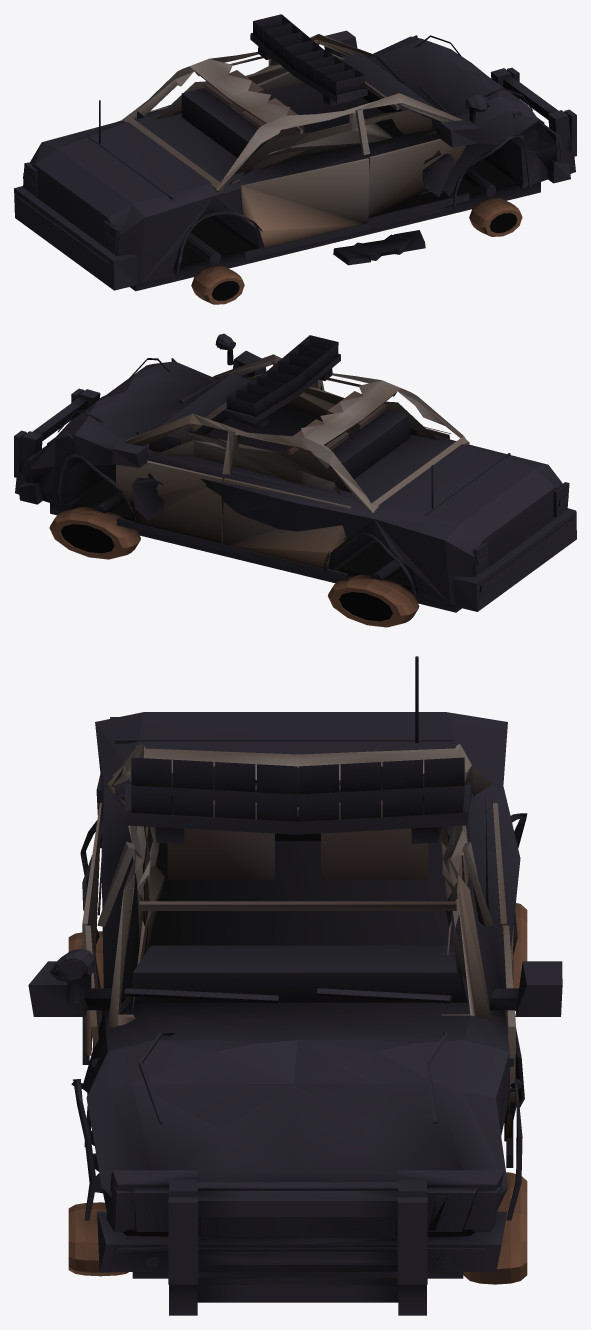
The model's file is model.burned.glb.
3 renders of one model, top to bottom at view 1: azimuth 30°, elevation 25°; view 2: azimuth 150°, elevation 25°; view 3: azimuth 270°, elevation 25°, orthographic. The views are drawn at different scales.
Visible parts, largest first — view 1: body_pal_uiDark, body_pal_picketWhite, wheelRL_pal_sidewalk, wheelFL_pal_sidewalk, body_pal_sidewalk; view 2: body_pal_uiDark, body_pal_picketWhite, wheelRR_pal_sidewalk, wheelFR_pal_sidewalk, body_pal_sidewalk; view 3: body_pal_uiDark, body_pal_picketWhite, body_pal_sidewalk, wheelFR_pal_sidewalk, wheelFL_pal_sidewalk, wheelRR_pal_sidewalk.
Part boxes in pixels (x1,y1,x2,y2): body_pal_uiDark: [14, 14, 576, 291]; body_pal_picketWhite: [121, 34, 465, 247]; wheelRL_pal_sidewalk: [191, 266, 244, 304]; wheelFL_pal_sidewalk: [469, 198, 522, 236]; body_pal_sidewalk: [204, 70, 399, 137]; body_pal_uiDark: [14, 333, 576, 612]; body_pal_picketWhite: [116, 354, 469, 568]; wheelRR_pal_sidewalk: [328, 574, 419, 627]; wheelFR_pal_sidewalk: [49, 507, 140, 559]; body_pal_sidewalk: [191, 391, 387, 457]; body_pal_uiDark: [28, 656, 562, 1315]; body_pal_picketWhite: [82, 744, 515, 1141]; body_pal_sidewalk: [139, 785, 456, 910]; wheelFR_pal_sidewalk: [463, 1172, 527, 1284]; wheelFL_pal_sidewalk: [68, 1202, 128, 1276]; wheelRR_pal_sidewalk: [513, 903, 527, 1011].
Size of the model in its own units: 5.05 by 1.82 by 2.42.
